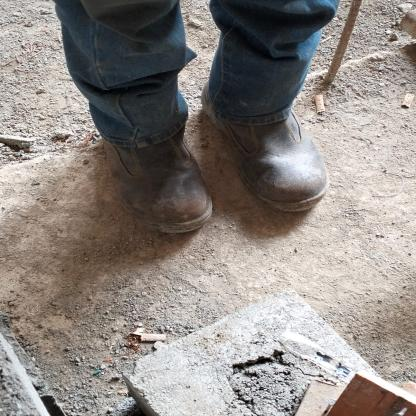bota: (204, 93, 329, 212), (96, 128, 206, 233)
